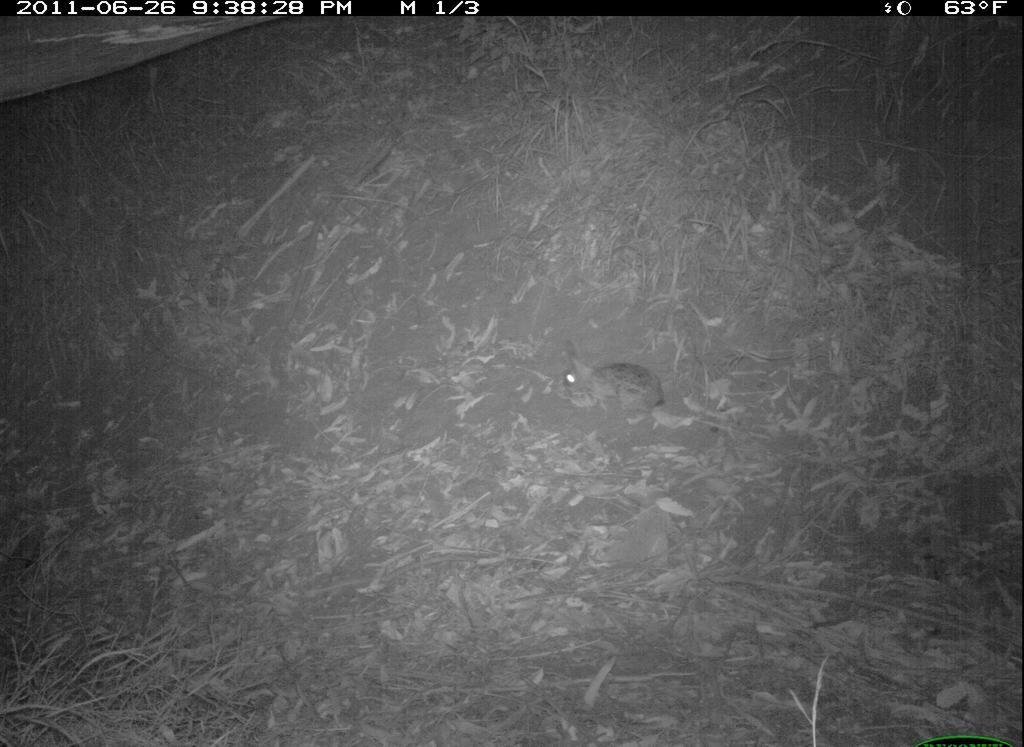rabbit: (568, 346, 676, 427)
